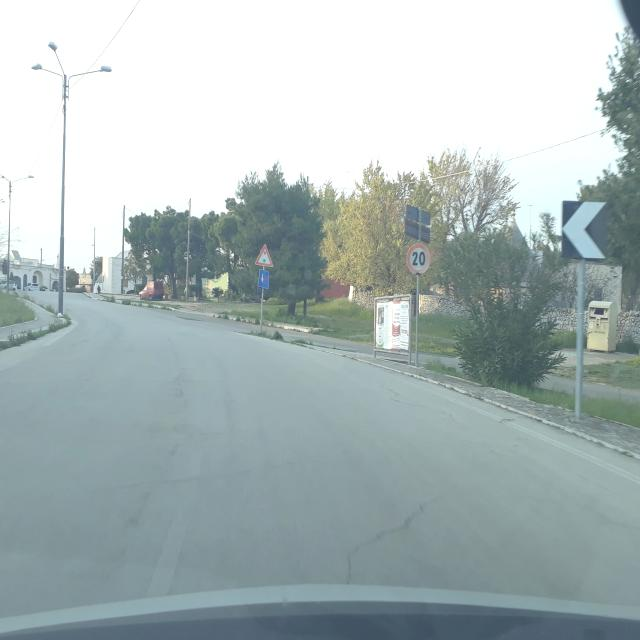car: (138, 281, 167, 301)
